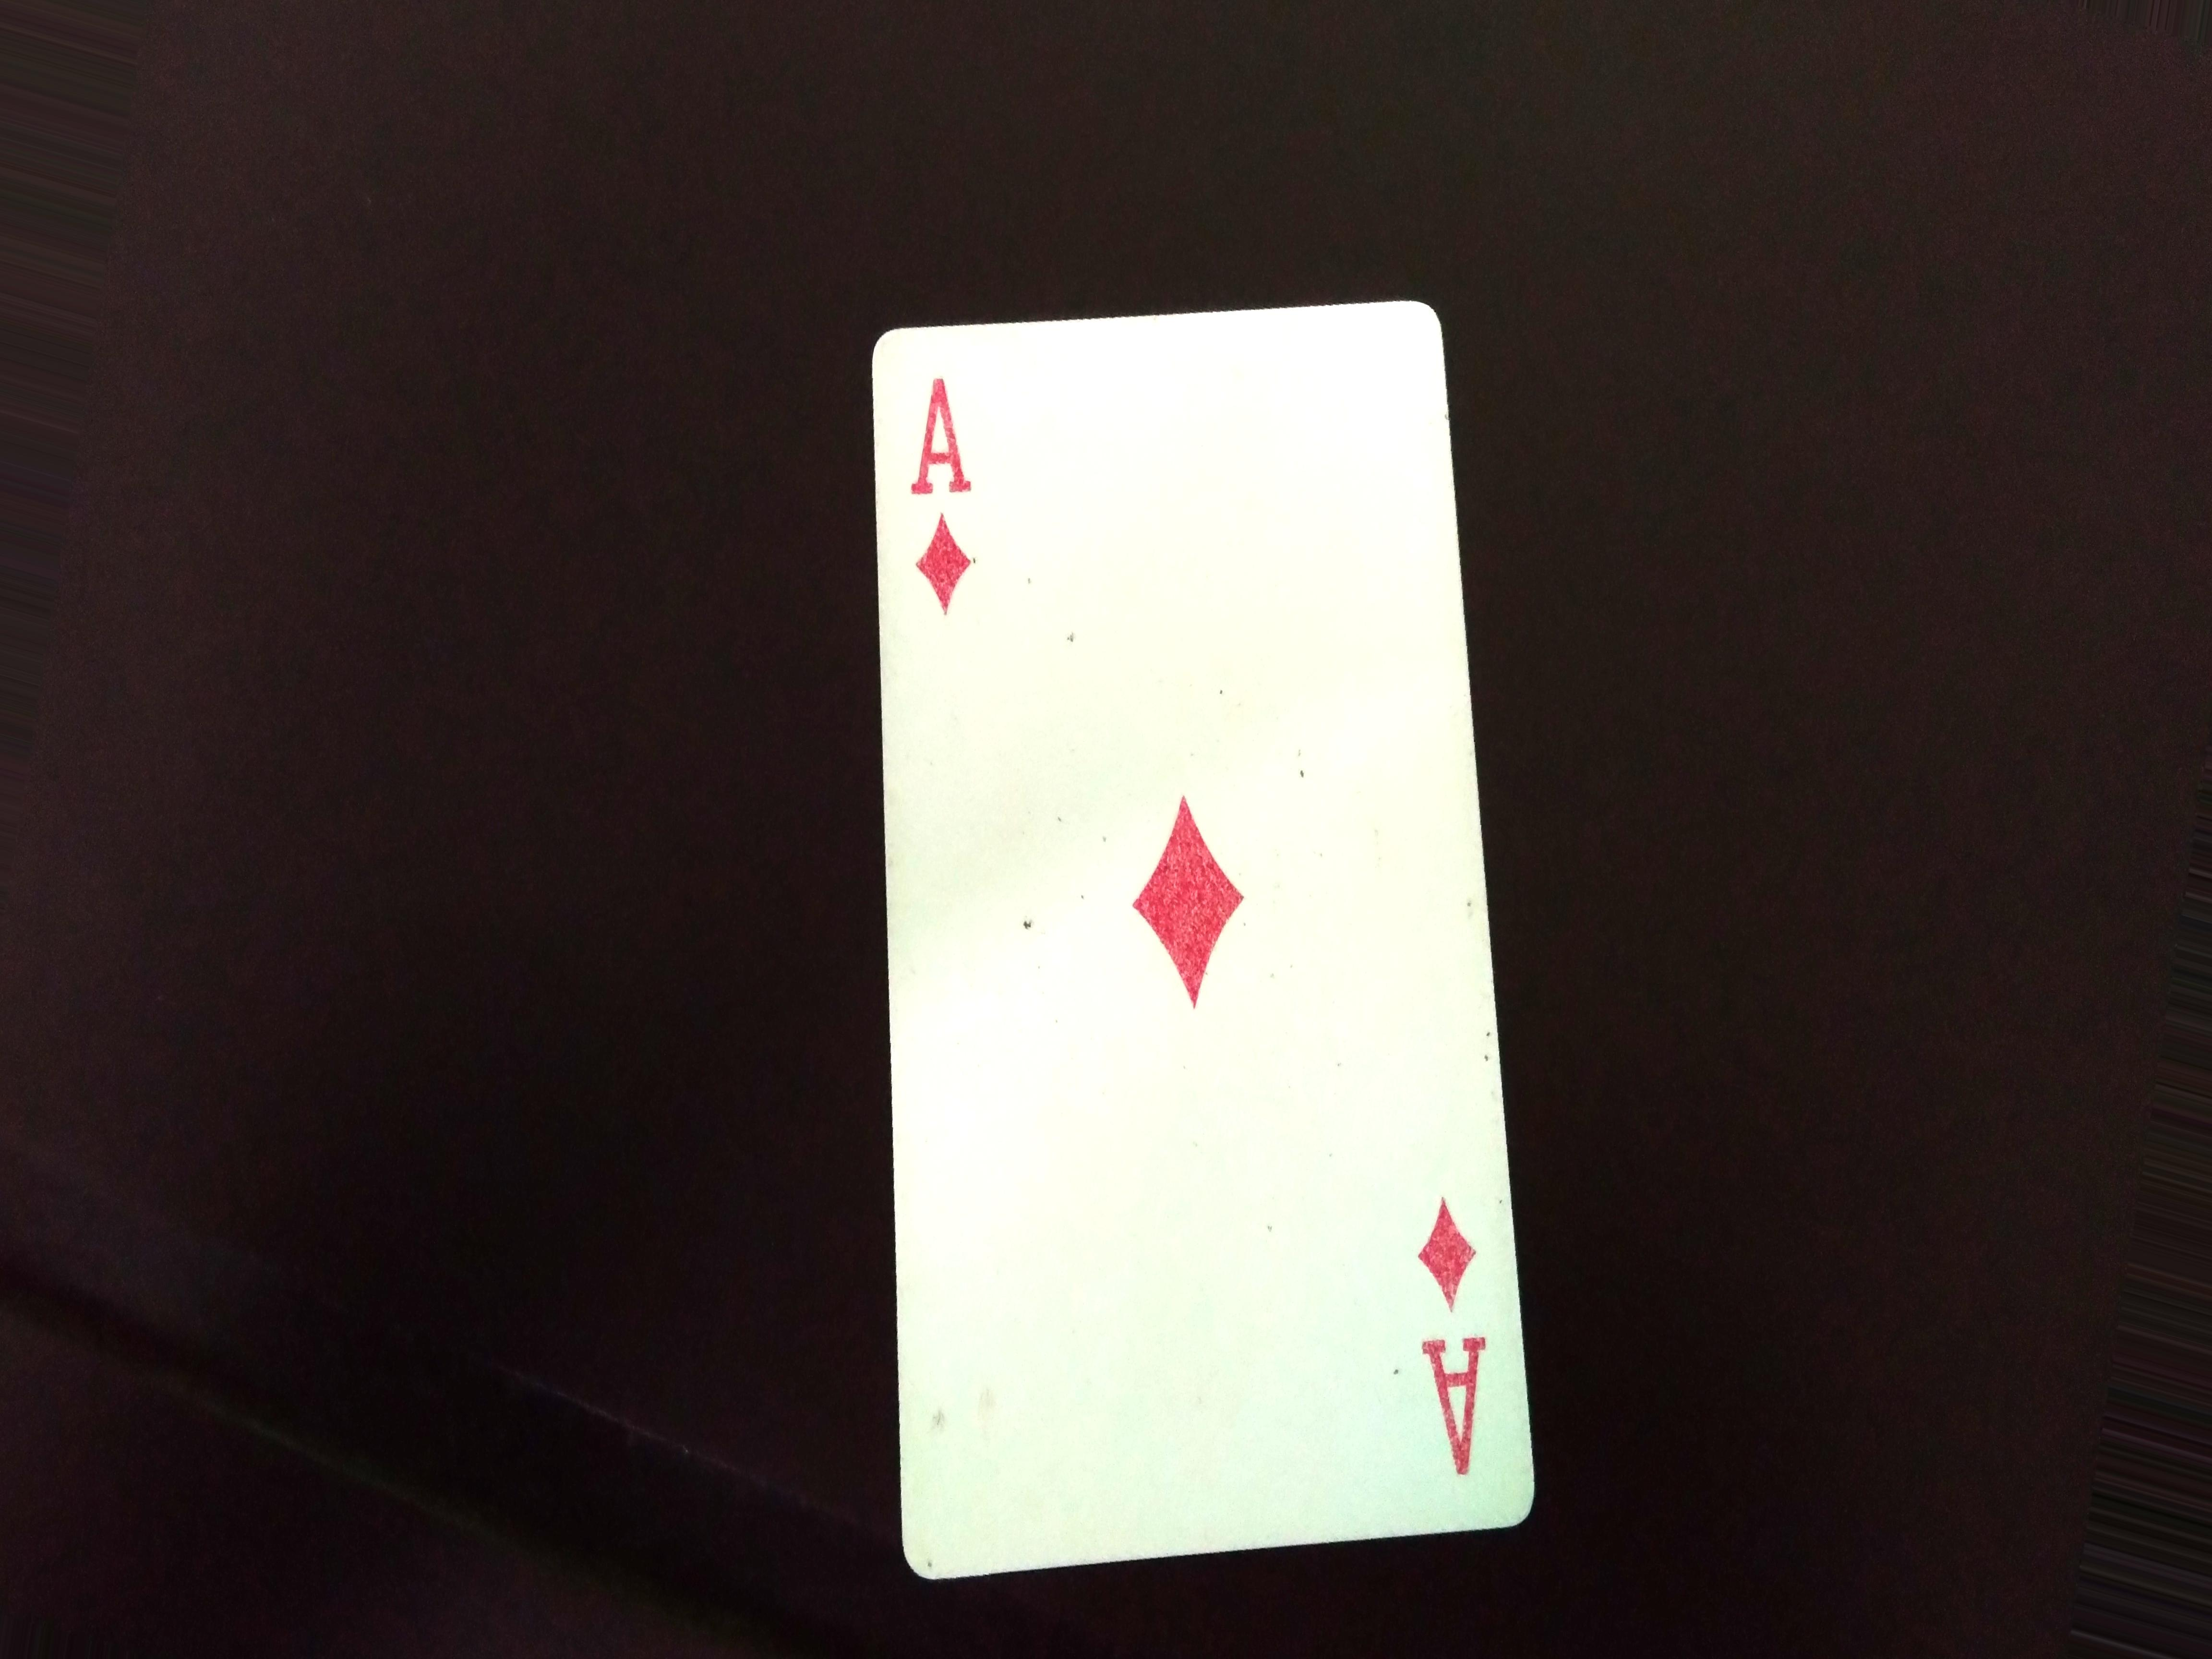AD: (916, 343, 982, 629)
